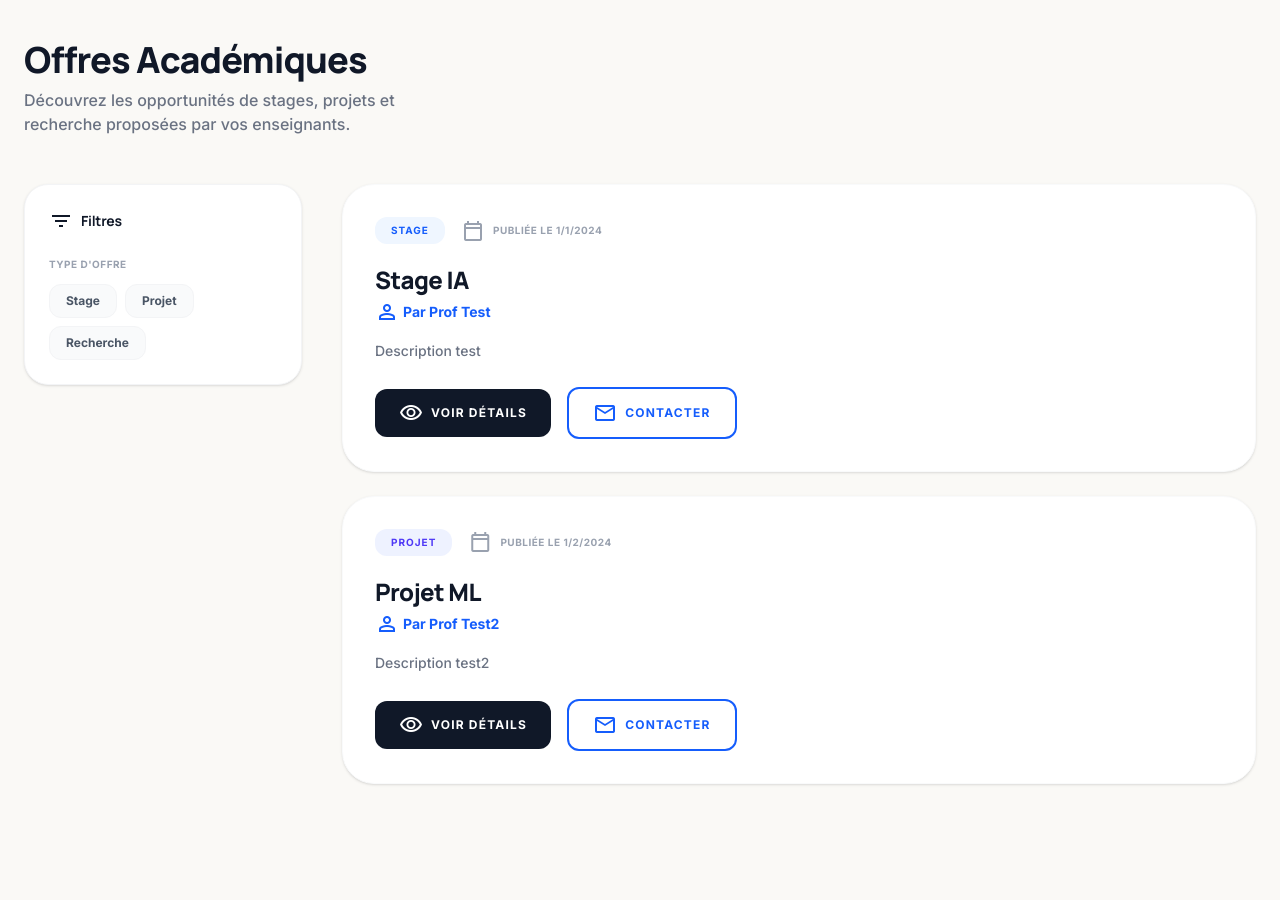
Test case: EtudiantOffres › filtre par type
This screenshot has width=1280, height=900.
Expected: the heading "Stage IA" is shown, [375,263,469,296]
Expected: the heading "Projet ML" is shown, [375,575,481,608]
Click the text "Stage".
click(83, 301)  # box [49,284,117,318]
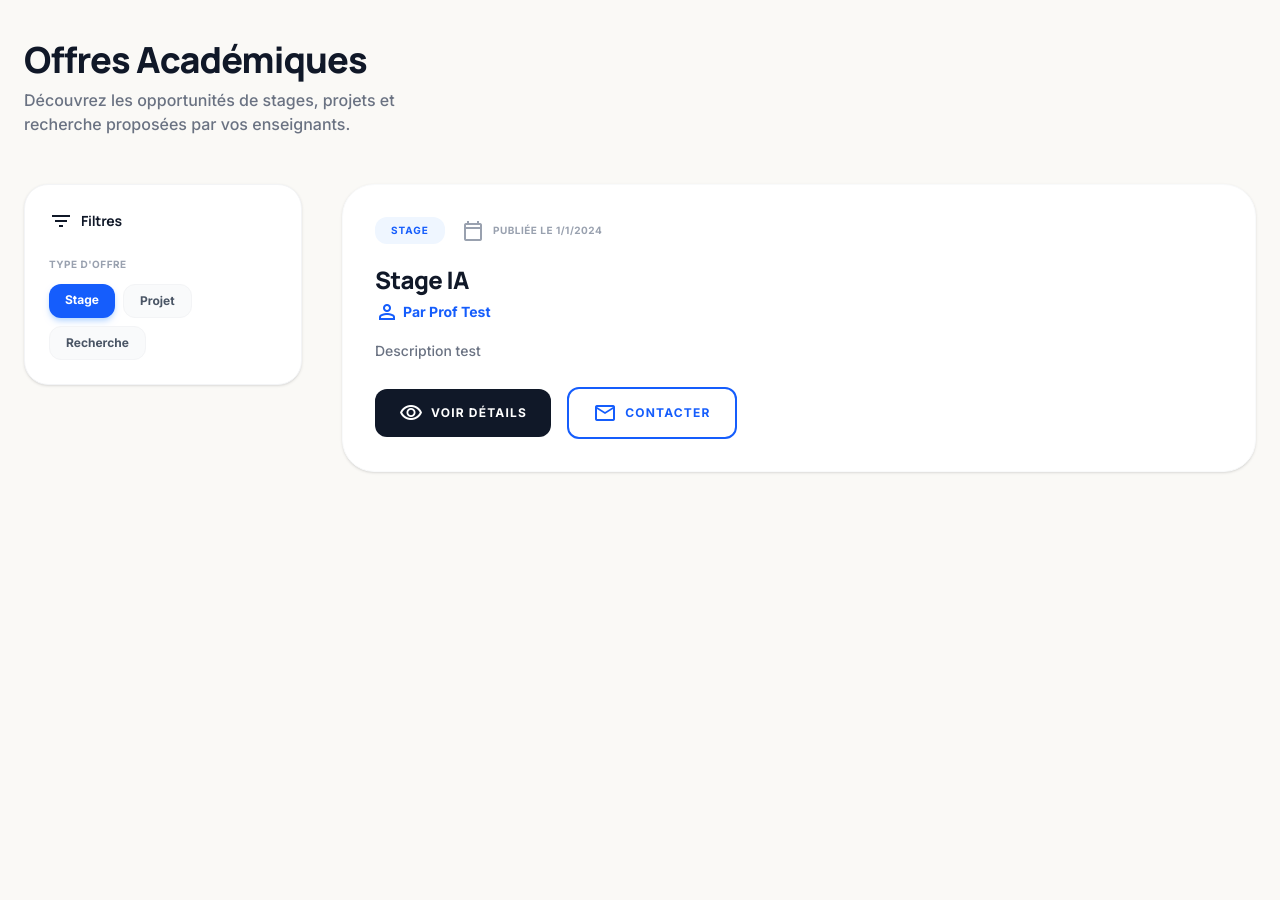
Expected: the heading "Stage IA" is shown, [375,263,469,296]
Expected: the heading "Projet ML" is gone
